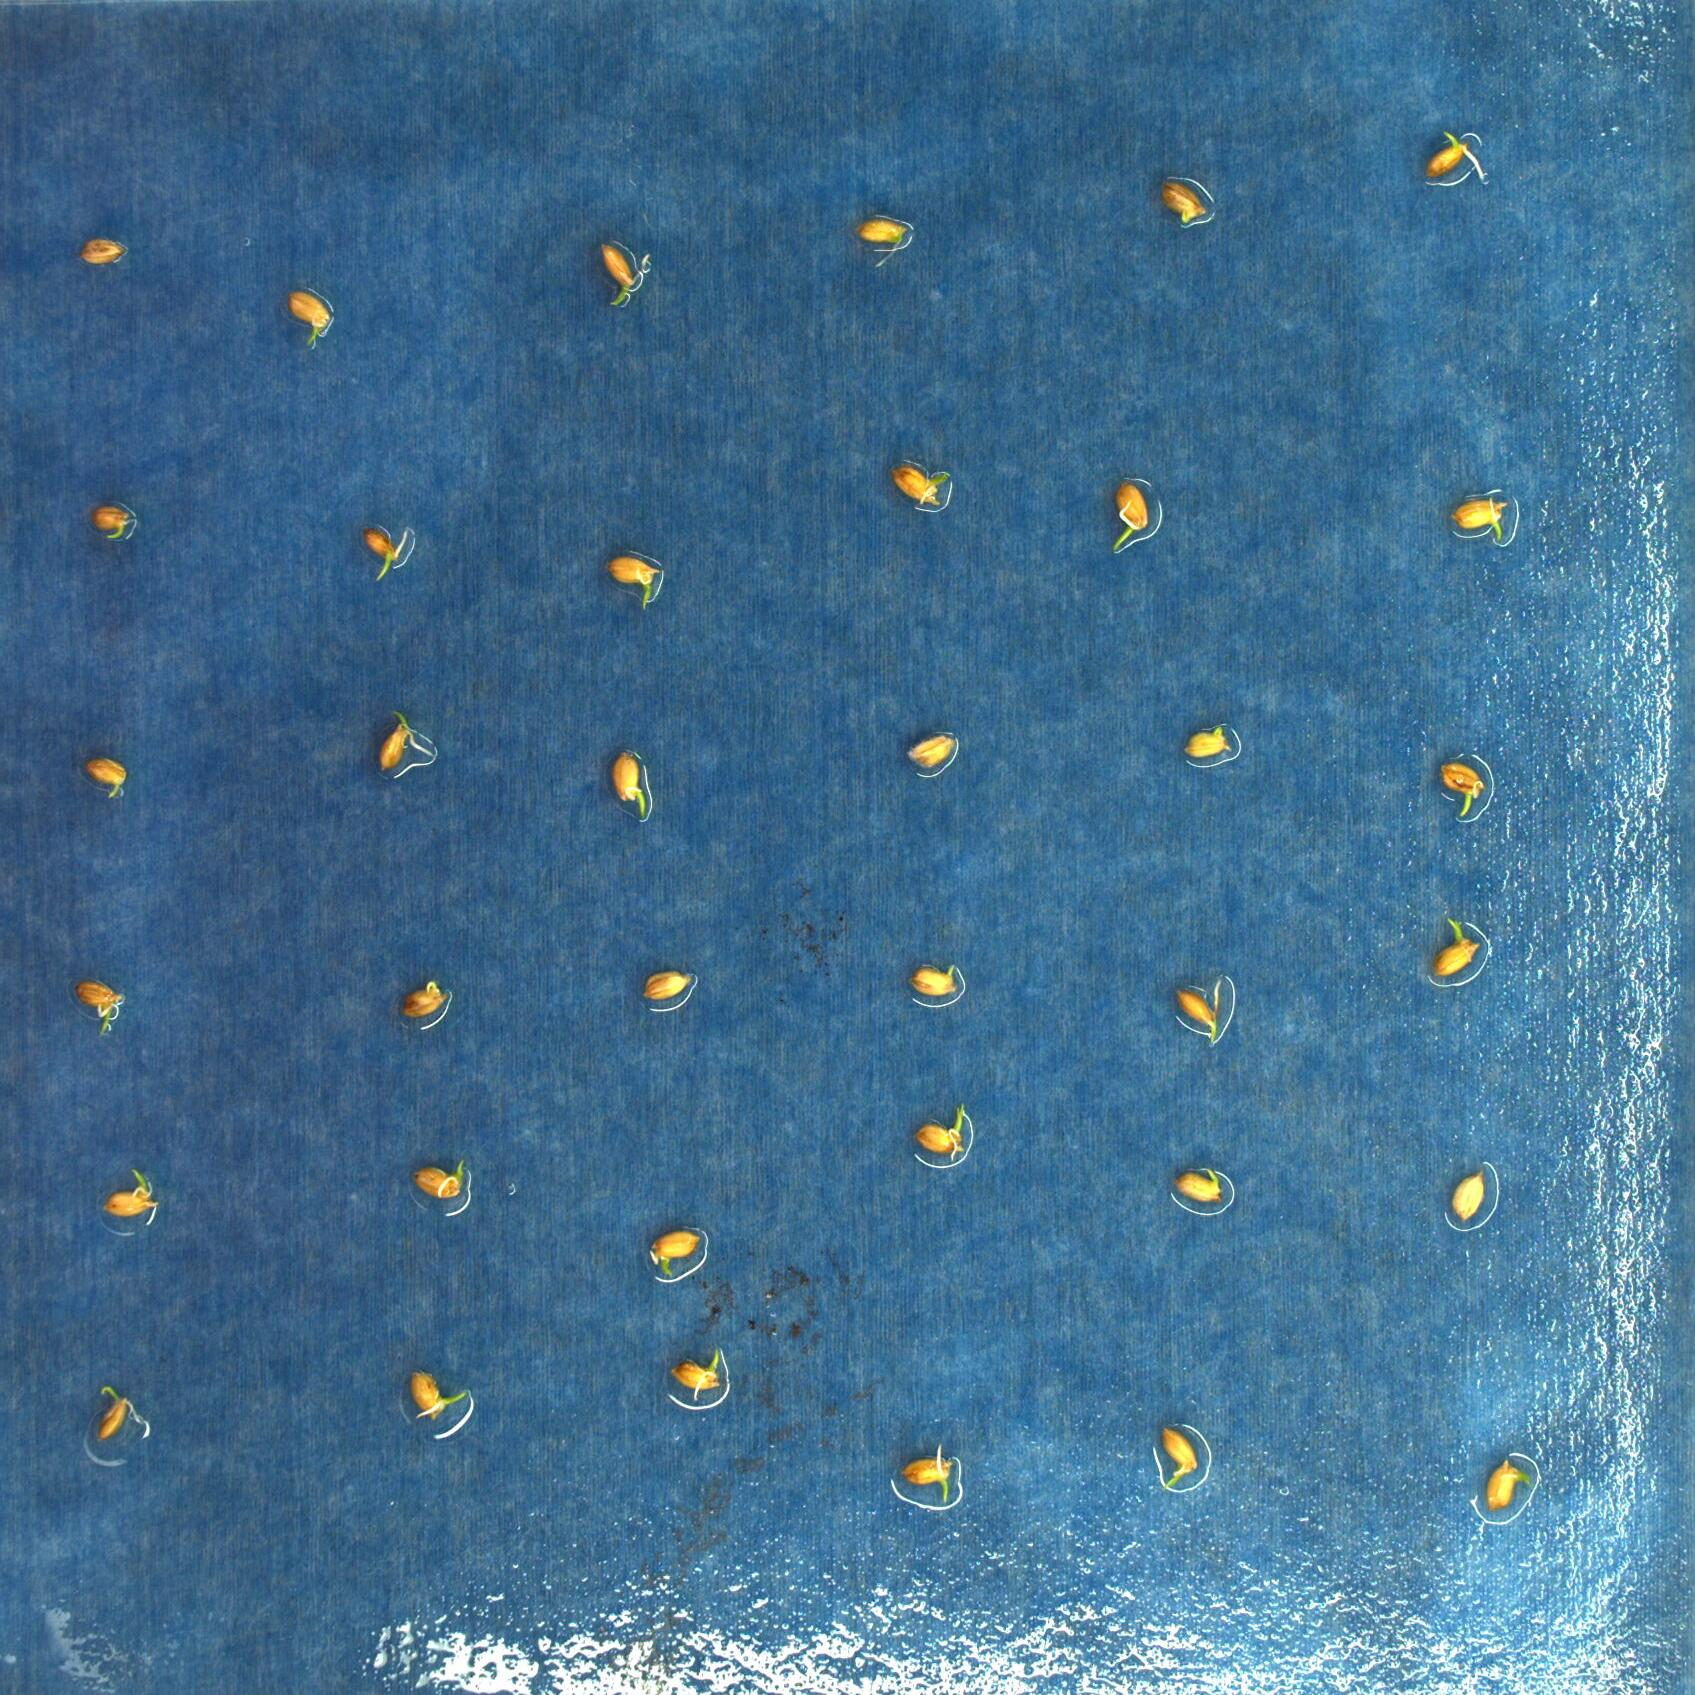not sprout: (1175, 975, 1225, 1048), (1423, 130, 1485, 182), (650, 1229, 698, 1277), (1159, 179, 1208, 224), (1451, 1166, 1485, 1223), (400, 979, 449, 1018), (903, 736, 951, 770), (906, 965, 958, 997), (85, 757, 126, 796), (1184, 728, 1231, 761), (641, 972, 692, 1000), (81, 239, 126, 265)
sprout: (379, 711, 435, 779), (410, 1367, 470, 1420), (601, 241, 649, 306), (900, 1444, 951, 1504), (854, 217, 910, 269), (102, 1167, 158, 1218), (1437, 761, 1485, 820), (1433, 919, 1481, 978), (608, 557, 661, 610), (75, 976, 120, 1037), (1110, 480, 1149, 549), (289, 289, 332, 349), (891, 464, 951, 508), (1485, 1458, 1534, 1512), (914, 1107, 965, 1155), (363, 526, 408, 581), (96, 1385, 140, 1440), (411, 1156, 466, 1200), (1159, 1426, 1198, 1487), (612, 751, 646, 820), (671, 1346, 720, 1392), (1451, 498, 1506, 539), (1173, 1166, 1223, 1206), (90, 506, 132, 540)
